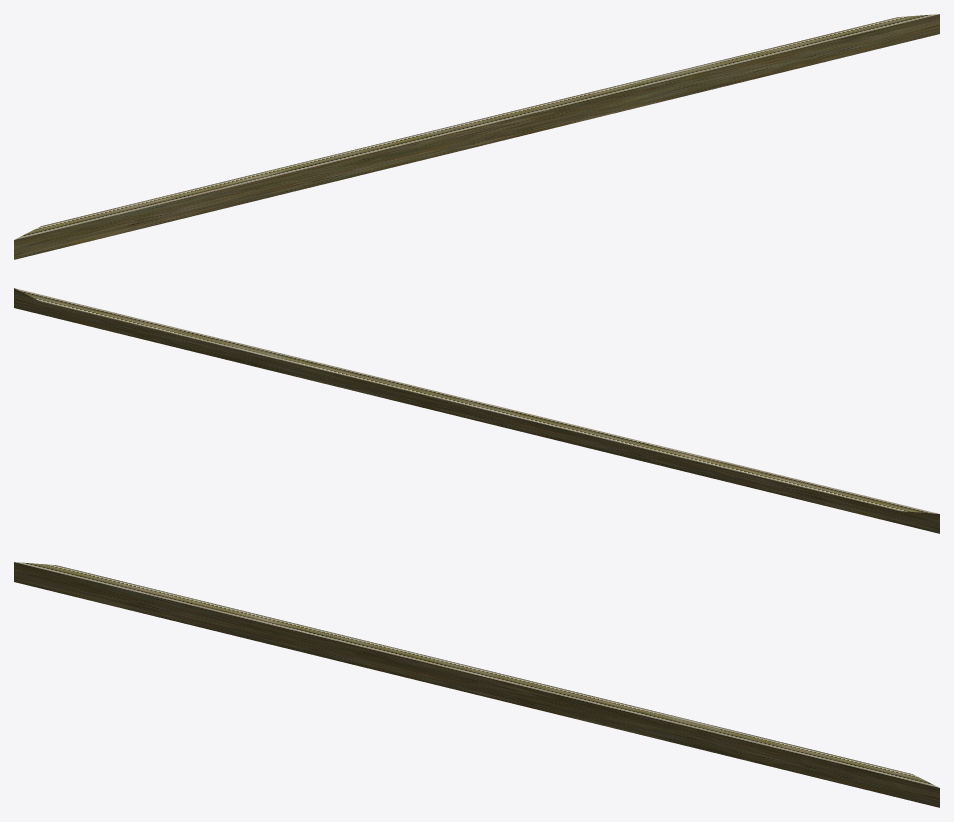
The model's file is CH09_SMAUG_PLAYSURFACE_LAIR92.fbx.
3 renders of one model, top to bottom at view 1: azimuth 30°, elevation 25°; view 2: azimuth 150°, elevation 25°; view 3: azimuth 330°, elevation 25°, orthographic.
Parts seen in each view (by area): view 1: CH09_SMAUG_PLAYSURFACE_LAIR92; view 2: CH09_SMAUG_PLAYSURFACE_LAIR92; view 3: CH09_SMAUG_PLAYSURFACE_LAIR92.
Boxes of the visible parts, x1=… form: CH09_SMAUG_PLAYSURFACE_LAIR92: x1=14, y1=14, x2=939, y2=259; CH09_SMAUG_PLAYSURFACE_LAIR92: x1=14, y1=288, x2=939, y2=533; CH09_SMAUG_PLAYSURFACE_LAIR92: x1=14, y1=562, x2=939, y2=807.
Size of the model in its own units: 145806 by 3000 by 2000.
2 materials, 2 textured.
